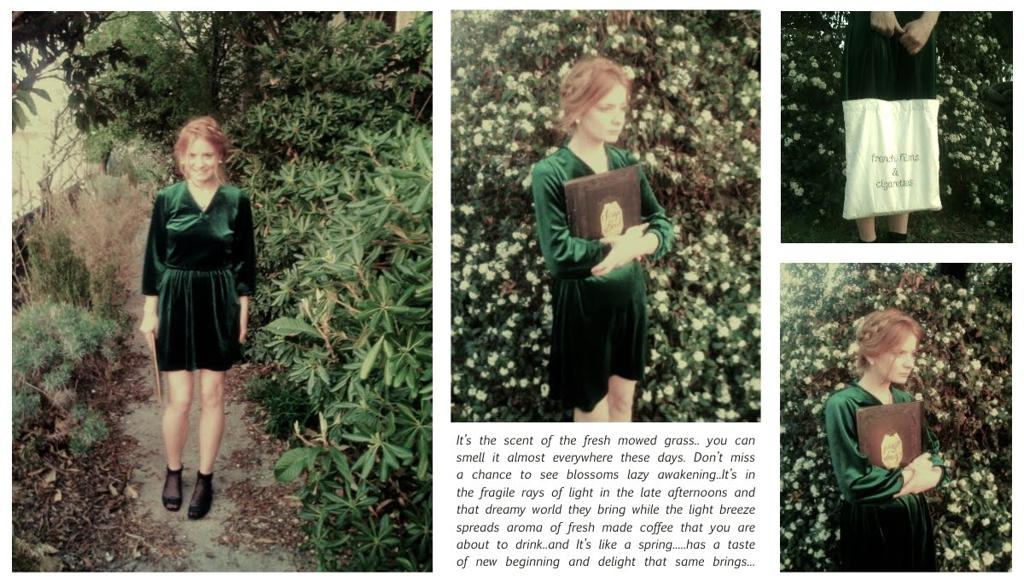face: (580, 82, 626, 141), (873, 336, 915, 383), (184, 141, 215, 180)
